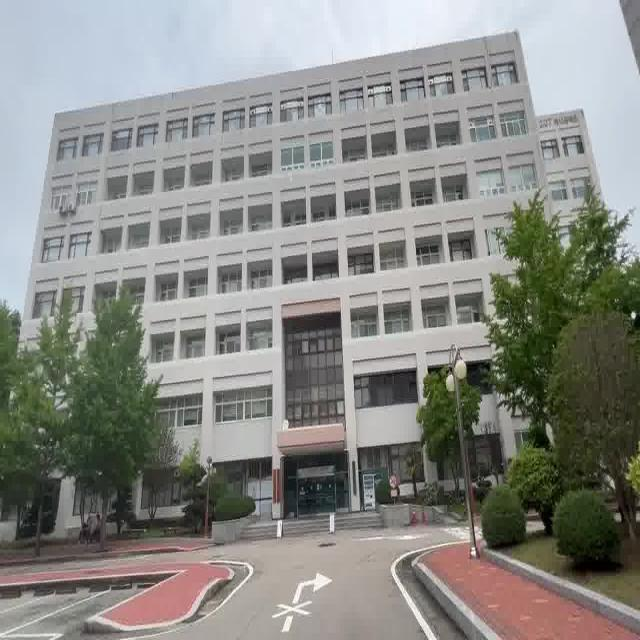building: (225, 68, 419, 524)
